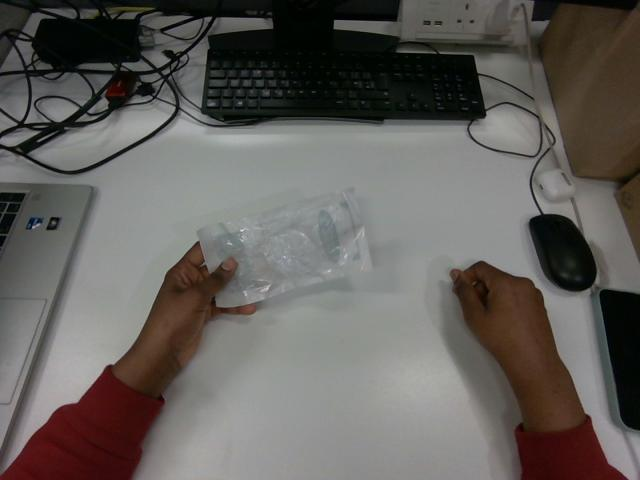gallipot: (197, 189, 371, 306)
